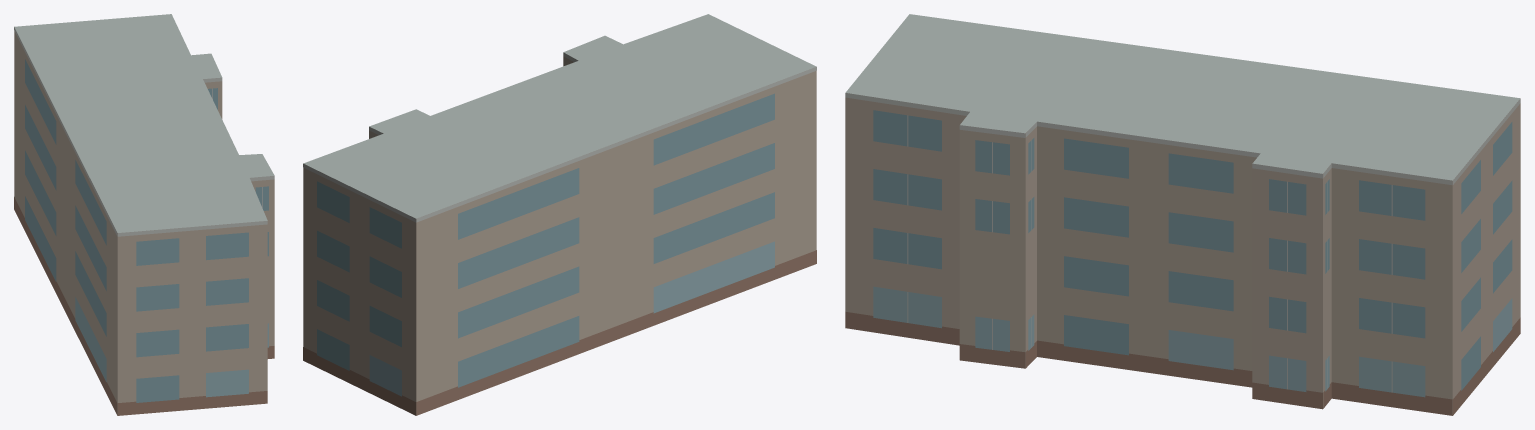
Rendered from survey-upis-32512518.glb.
3 views of the same model, side by side, from view 1: azimuth 30°, elevation 25°; view 2: azimuth 150°, elevation 25°; view 3: azimuth 270°, elevation 25° (orthographic). The views are drawn at different scales.
Parts seen in each view (by area): view 1: survey-upis-32512518.tmp; view 2: survey-upis-32512518.tmp; view 3: survey-upis-32512518.tmp.
Part boxes in pixels (x1,y1,x2,y2): survey-upis-32512518.tmp: (14,14,274,415); survey-upis-32512518.tmp: (303,14,816,415); survey-upis-32512518.tmp: (845,14,1520,415).
Size of the model in its own units: 18.53 by 12.2 by 31.74.
